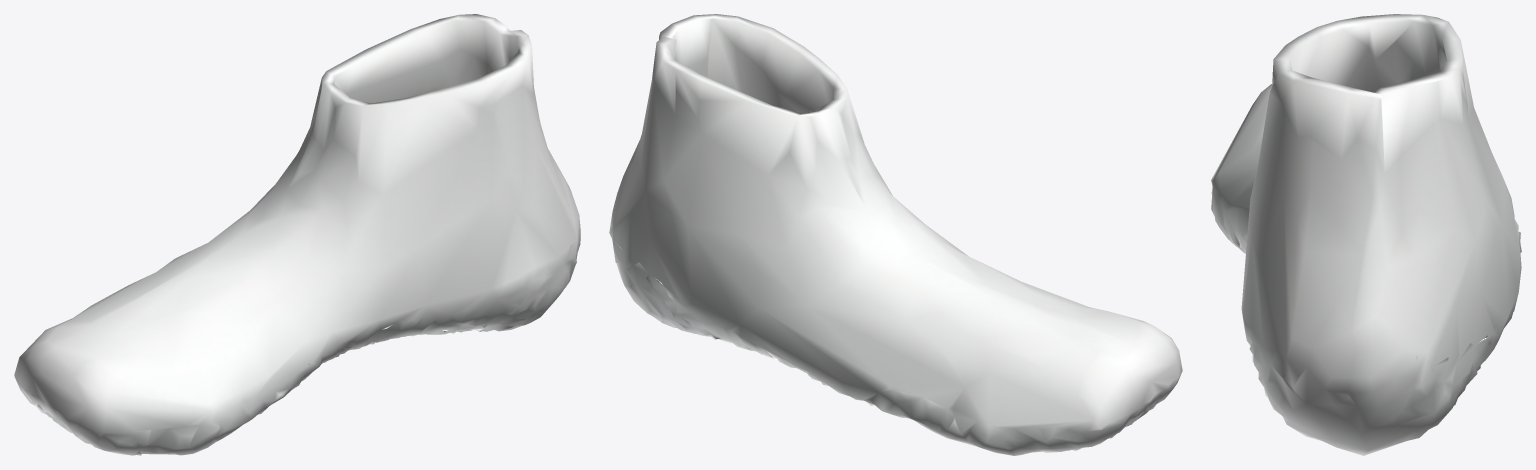
File: molosoc-3d.glb
3 renders of one model, left to right at view 1: azimuth 30°, elevation 25°; view 2: azimuth 150°, elevation 25°; view 3: azimuth 270°, elevation 25°, orthographic. The views are drawn at different scales.
Parts seen in each view (by area): view 1: Mesh1.0; view 2: Mesh1.0; view 3: Mesh1.0.
Boxes of the visible parts, left/top/right/bottom form: Mesh1.0: left=14, top=14, right=580, bottom=455; Mesh1.0: left=609, top=14, right=1182, bottom=455; Mesh1.0: left=1211, top=14, right=1521, bottom=455.
Bounding box in the file's own units: 1.9 × 1.04 × 0.7394.
1 material, 1 textured.
